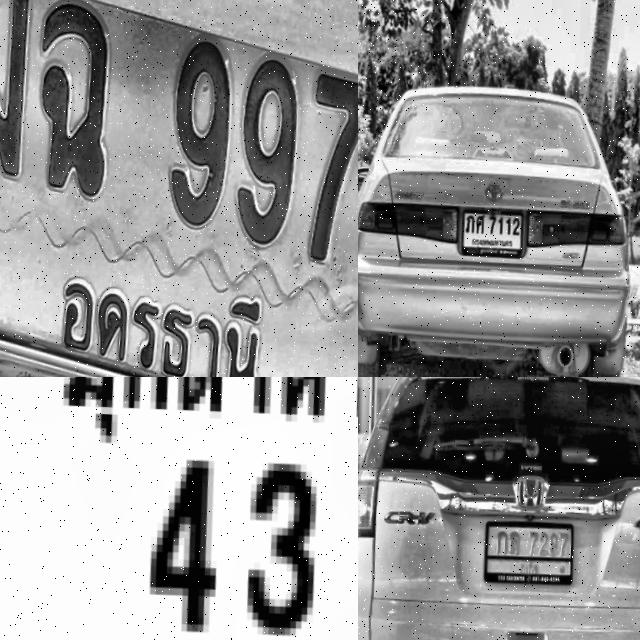license-plate: (0, 0, 358, 377), (0, 377, 358, 640), (486, 508, 582, 585), (463, 199, 530, 257)
